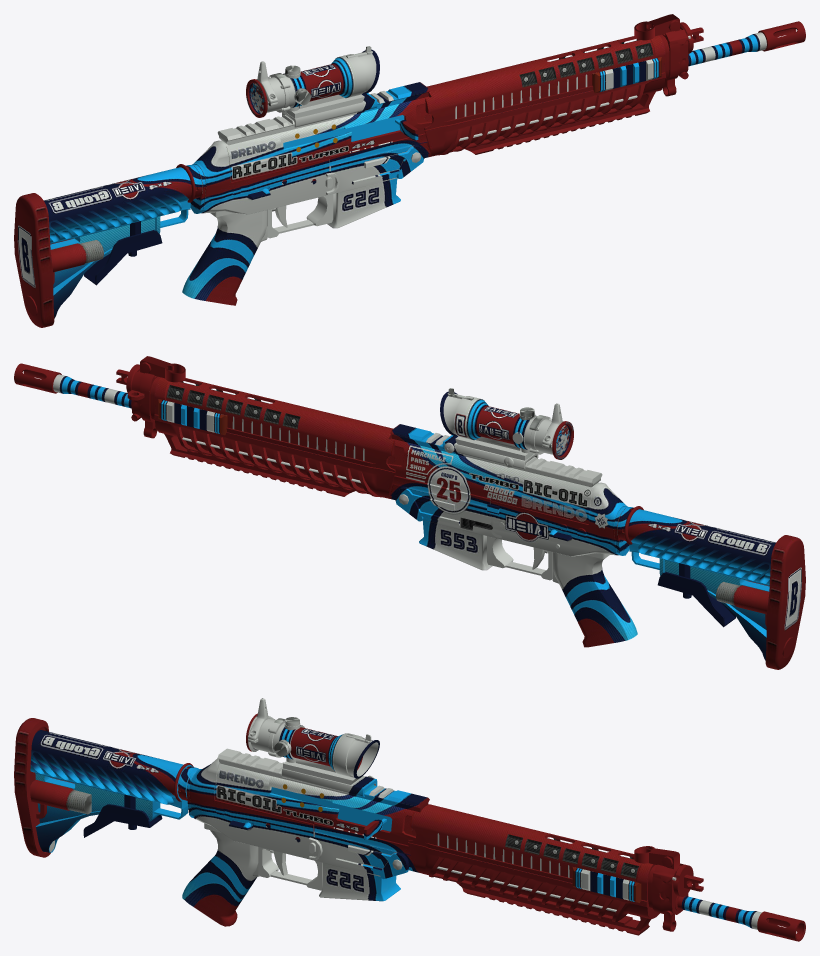
File: w_specialcarbine_rally.glb
3 views of the same model, one above another, from view 1: azimuth 30°, elevation 25°; view 2: azimuth 150°, elevation 25°; view 3: azimuth 330°, elevation 25° (orthographic).
Visible parts, largest first — view 1: Gun_Root; view 2: Gun_Root; view 3: Gun_Root.
Boxes of the visible parts, <box> form: Gun_Root: <box>14,14,805,327</box>; Gun_Root: <box>14,356,805,669</box>; Gun_Root: <box>14,698,805,941</box>.
Size of the model in its own units: 0.8722 by 0.2498 by 0.0802.
1 material, 1 textured.
